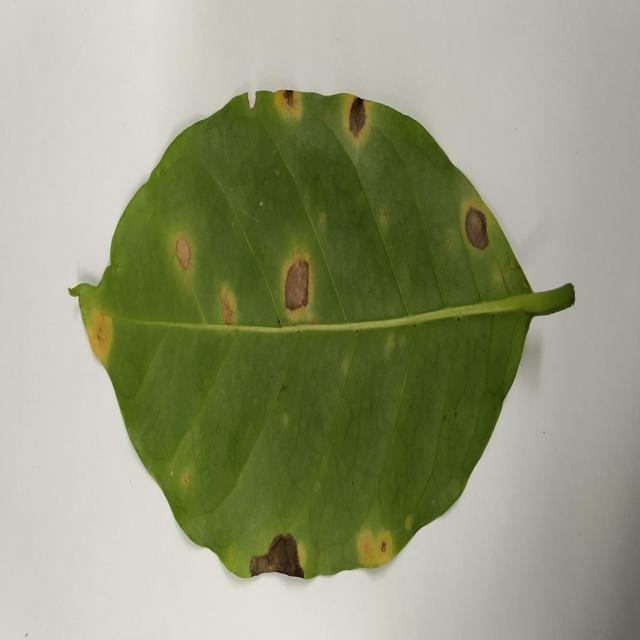Enfermedad-Mancha-de-hierro: (67, 89, 576, 582)
